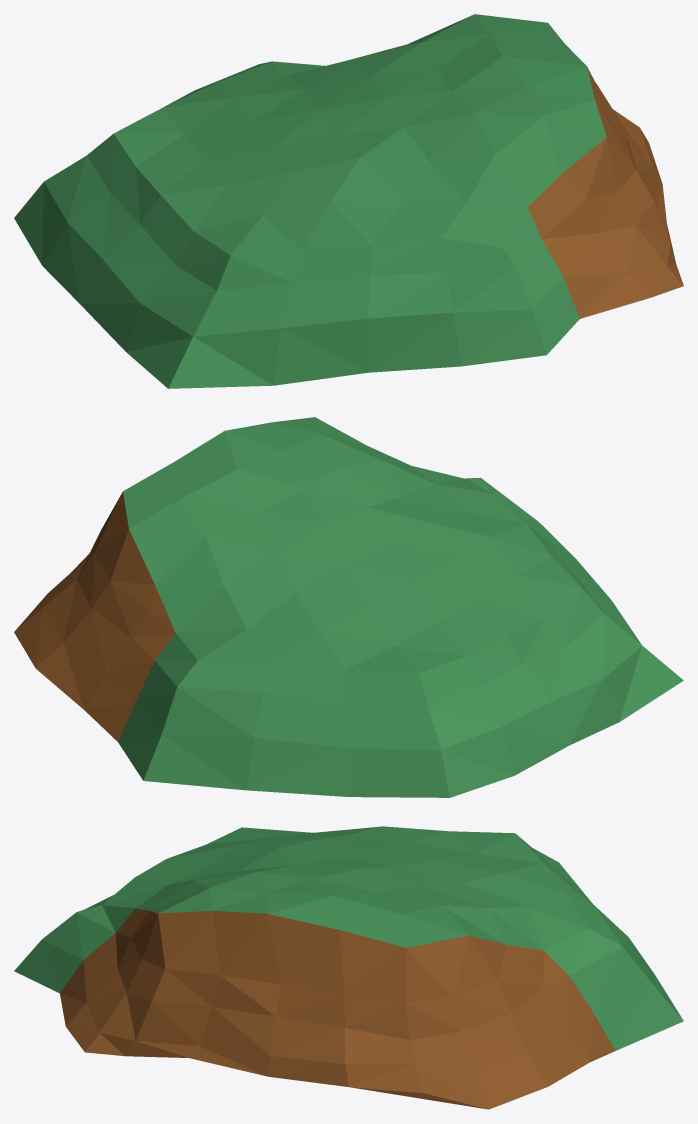
The model's file is forest_relief_2.fbx.
The picture shows the model from 3 angles, top to bottom: view 1: azimuth 30°, elevation 25°; view 2: azimuth 150°, elevation 25°; view 3: azimuth 270°, elevation 25°; orthographic projection. The views are drawn at different scales.
Parts seen in each view (by area): view 1: Icosphere.047; view 2: Icosphere.047; view 3: Icosphere.047.
Part boxes in pixels (box(x1,y1,x2,y2)): Icosphere.047: box(14, 14, 683, 388); Icosphere.047: box(14, 417, 683, 797); Icosphere.047: box(14, 826, 683, 1109).
Size of the model in its own units: 1556 by 504 by 1708.
